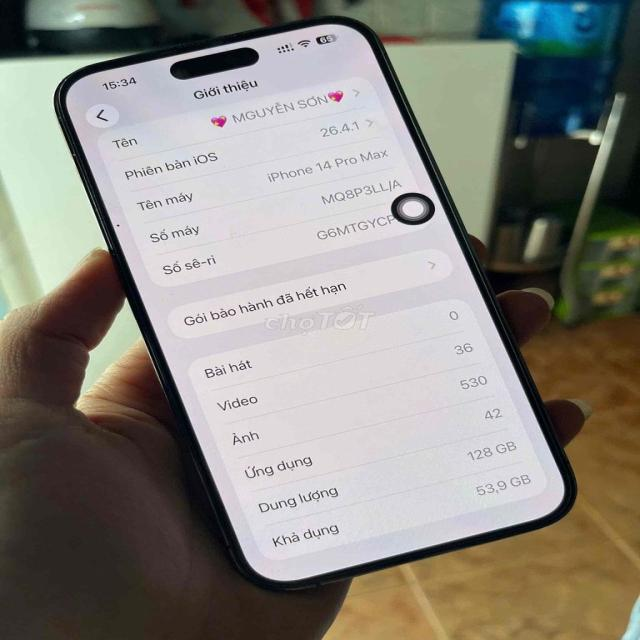gen_14: (45, 16, 580, 584)
